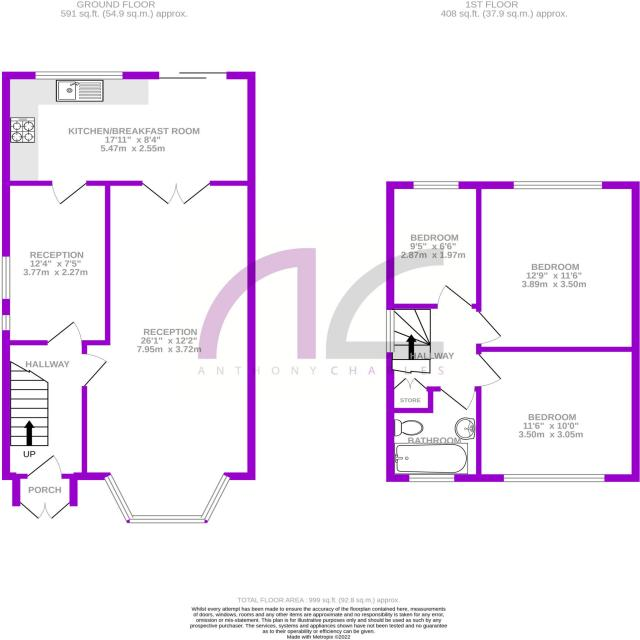DOOR: (51, 180, 88, 206), (46, 320, 83, 346), (475, 310, 502, 345), (475, 353, 502, 387), (81, 353, 108, 387), (440, 386, 476, 411), (437, 284, 473, 309), (26, 454, 62, 479)
DOUBLE DOOR: (137, 180, 223, 212)
ROOM: (81, 180, 256, 524), (2, 71, 256, 205), (476, 181, 640, 352), (475, 346, 640, 482), (1, 180, 111, 346), (386, 181, 482, 309)
SLIDING DOOR: (158, 69, 230, 82)
WINDOW: (103, 473, 232, 524), (503, 473, 605, 483), (35, 71, 123, 80), (513, 181, 603, 189), (409, 474, 455, 483), (386, 309, 395, 353), (1, 256, 10, 300), (413, 181, 459, 189), (1, 315, 11, 331)
